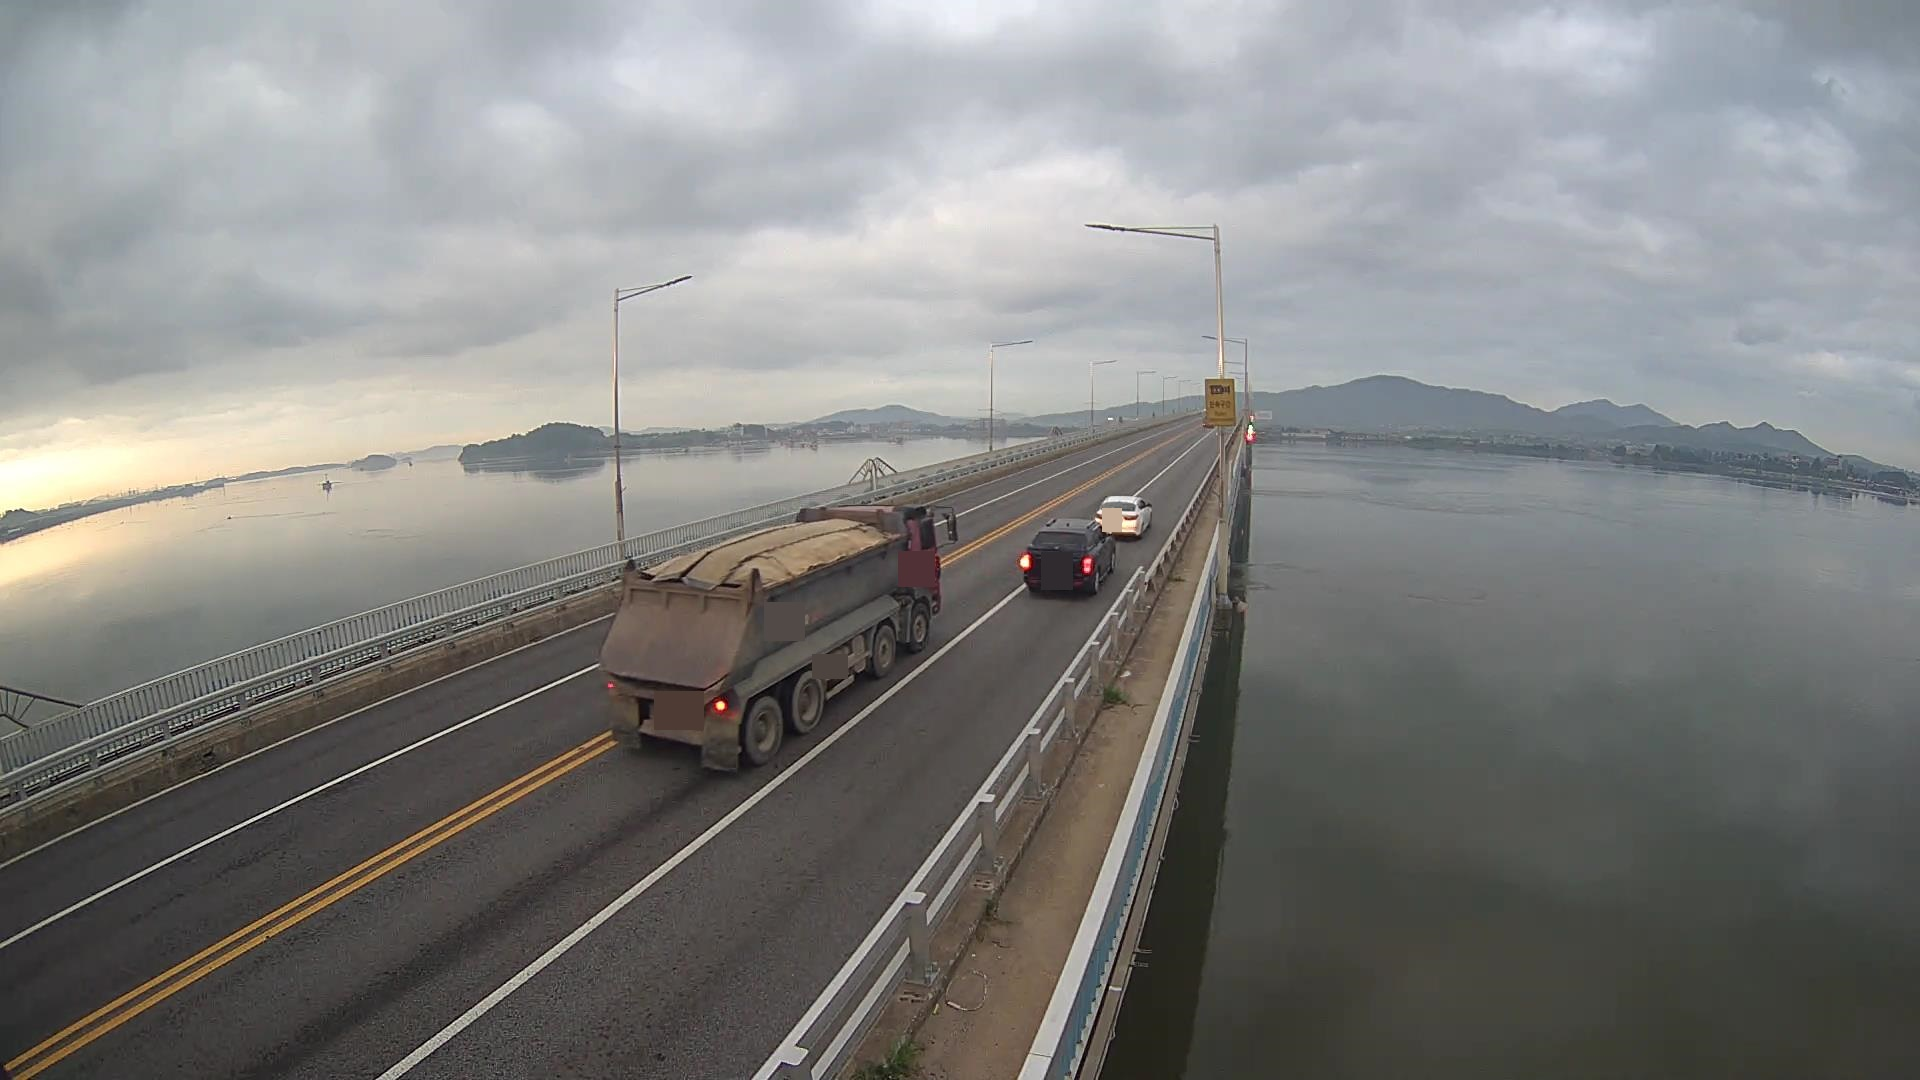정상차량: (599, 504, 957, 770)
